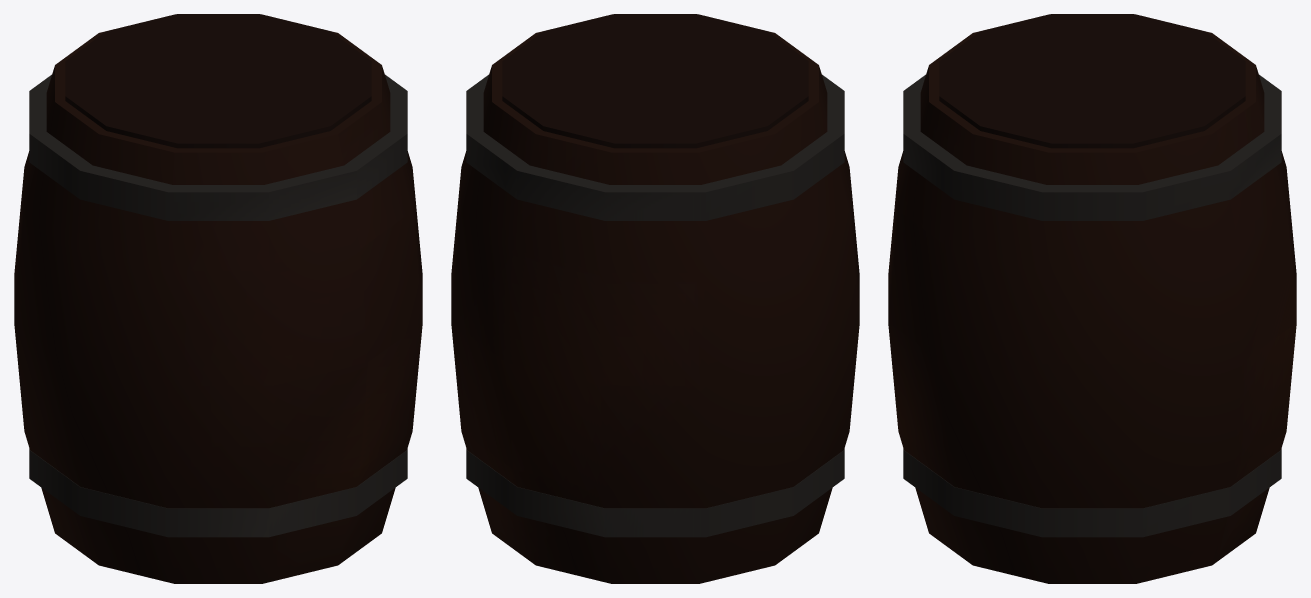
File: Barril.fbx
The picture shows the model from 3 angles, left to right: view 1: azimuth 30°, elevation 25°; view 2: azimuth 150°, elevation 25°; view 3: azimuth 270°, elevation 25°; orthographic projection.
Parts seen in each view (by area): view 1: Barril; view 2: Barril; view 3: Barril.
Part boxes in pixels (x1,y1,x2,y2): Barril: [14, 14, 422, 583]; Barril: [451, 14, 859, 583]; Barril: [888, 14, 1296, 583].
Size of the model in its own units: 0.7727 by 0.91 by 0.7727.
